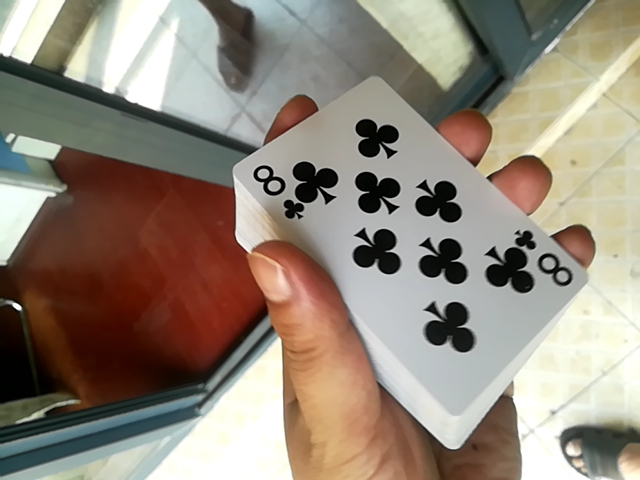mh 8: (195, 45, 605, 414)
